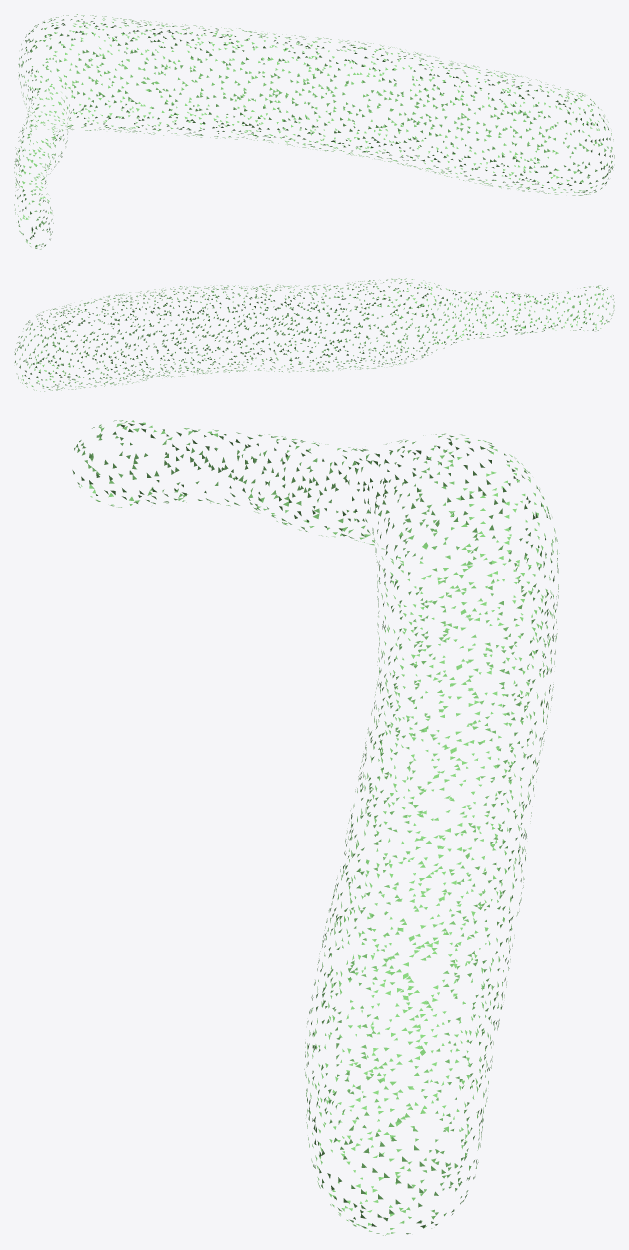
Rendered from morph_016.glb.
3 renders of one model, top to bottom at view 1: azimuth 30°, elevation 25°; view 2: azimuth 150°, elevation 25°; view 3: azimuth 270°, elevation 25°, orthographic. The views are drawn at different scales.
Size of the model in its own units: 148 by 57.85 by 61.36.
